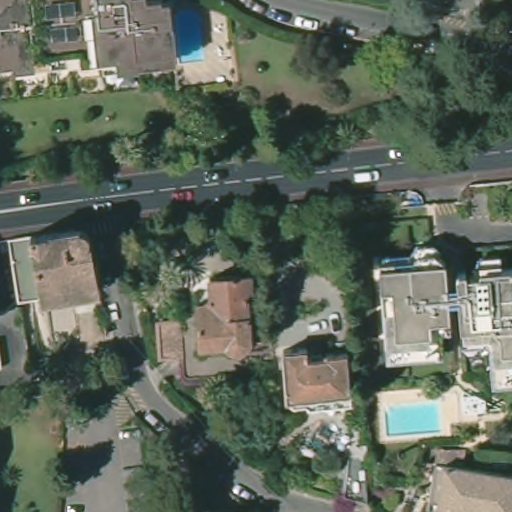pool: (381, 399, 443, 435), (171, 7, 207, 62)
